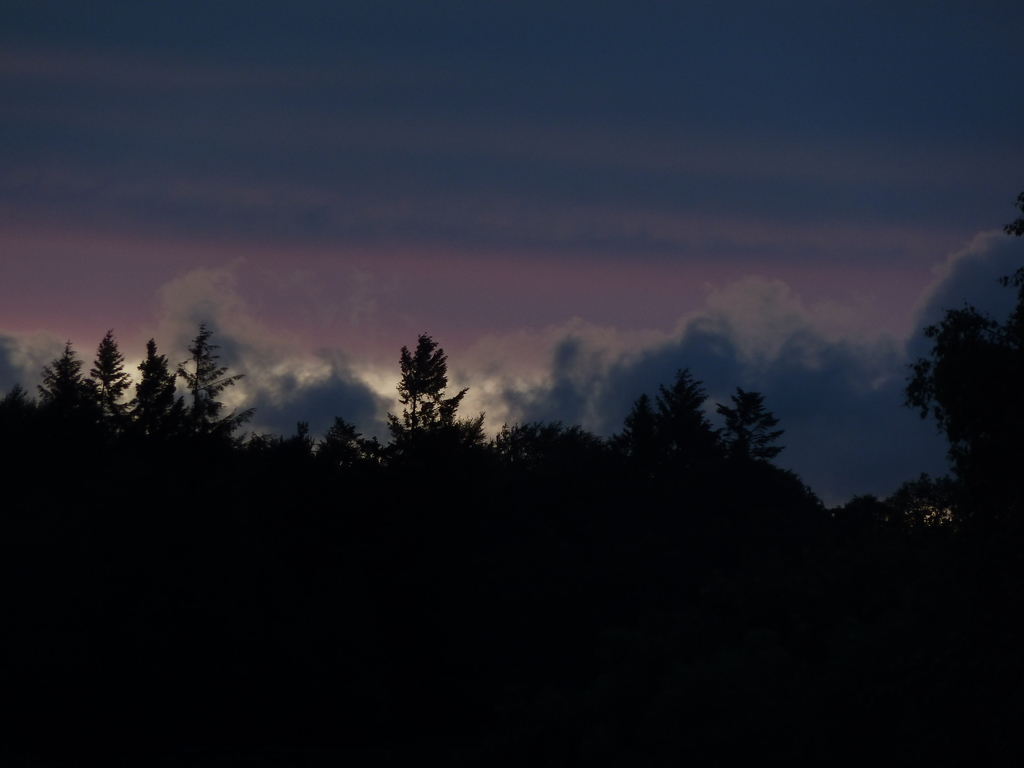Tree: (488, 363, 824, 510), (901, 203, 1022, 495), (37, 322, 257, 452), (376, 319, 467, 456)
